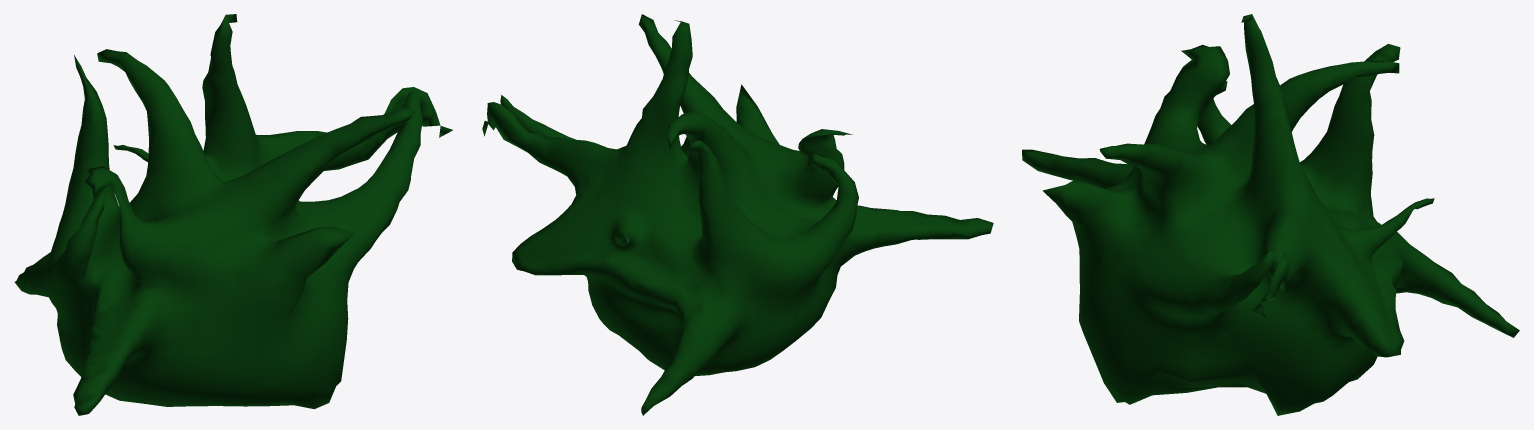
File: jump_cthulhu_0026.obj
3 renders of one model, left to right at view 1: azimuth 30°, elevation 25°; view 2: azimuth 150°, elevation 25°; view 3: azimuth 270°, elevation 25°, orthographic. The views are drawn at different scales.
Parts seen in each view (by area): view 1: Cube; view 2: Cube; view 3: Cube.
Boxes of the visible parts, left/top/right/bottom form: Cube: left=14, top=14, right=452, bottom=415; Cube: left=482, top=14, right=993, bottom=415; Cube: left=1022, top=14, right=1519, bottom=415.
Bounding box in the file's own units: 1.27 × 0.921 × 1.08.
